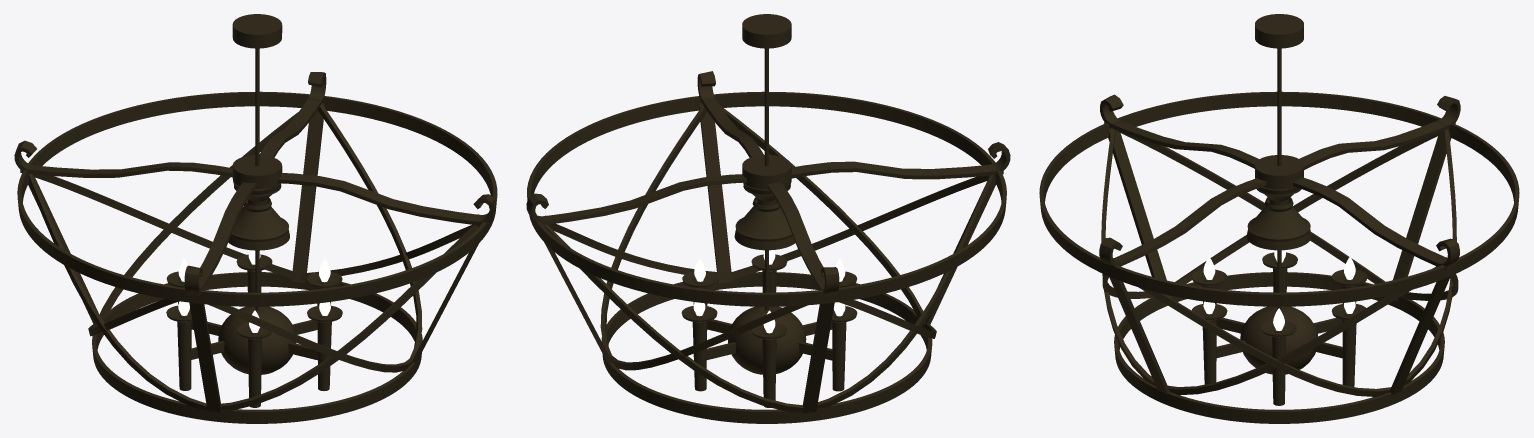
Rendered from CGT_CeilingLight_013.glb.
3 renders of one model, left to right at view 1: azimuth 30°, elevation 25°; view 2: azimuth 150°, elevation 25°; view 3: azimuth 270°, elevation 25°, orthographic.
Parts seen in each view (by area): view 1: CGT_CeilingLight_013; view 2: CGT_CeilingLight_013; view 3: CGT_CeilingLight_013.
Boxes of the visible parts, x1=… form: CGT_CeilingLight_013: x1=14, y1=14, x2=497, y2=423; CGT_CeilingLight_013: x1=526, y1=14, x2=1010, y2=423; CGT_CeilingLight_013: x1=1039, y1=14, x2=1519, y2=423.
Size of the model in its own units: 0.8734 by 0.6964 by 0.8734.
